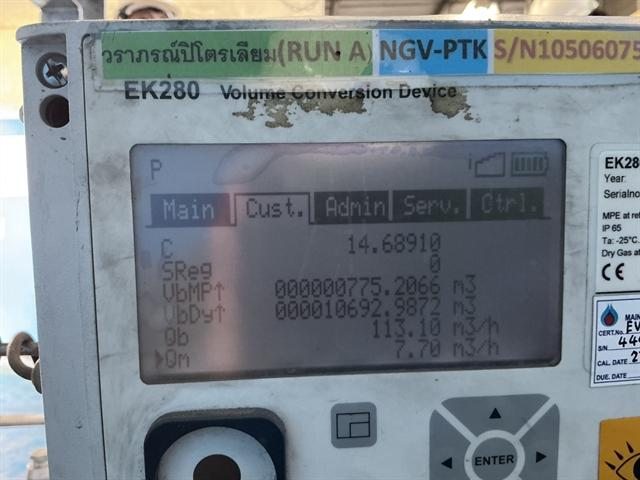digital_screen: (132, 141, 568, 382)
